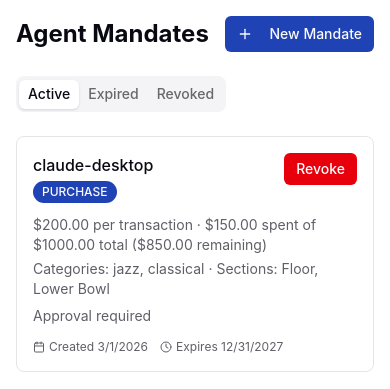
Test: MandatesPage › shows Revoked tab content when clicked
Click the tab "Revoked": (185, 94) [148,80,223,108]
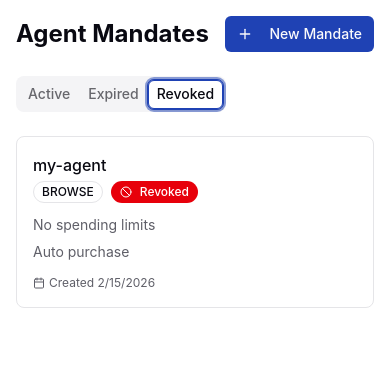
expect the text "my-agent" is shown: met, box [33,155,106,175]
